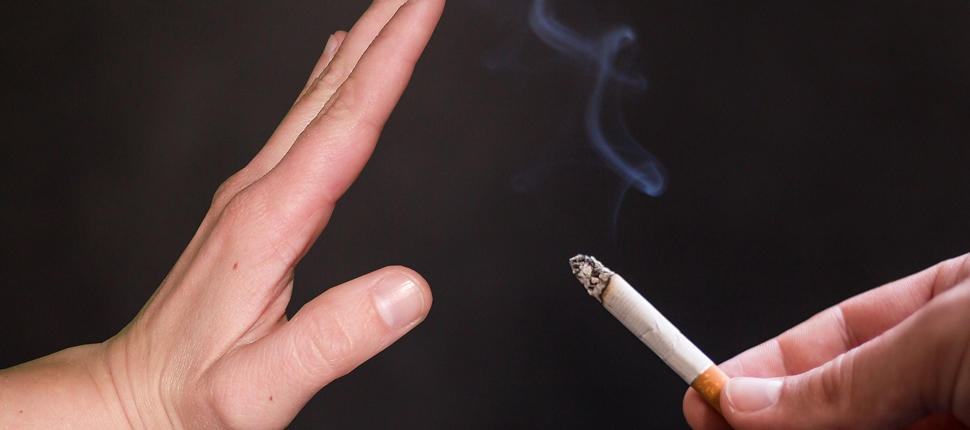sigaretta: (547, 237, 742, 414)
